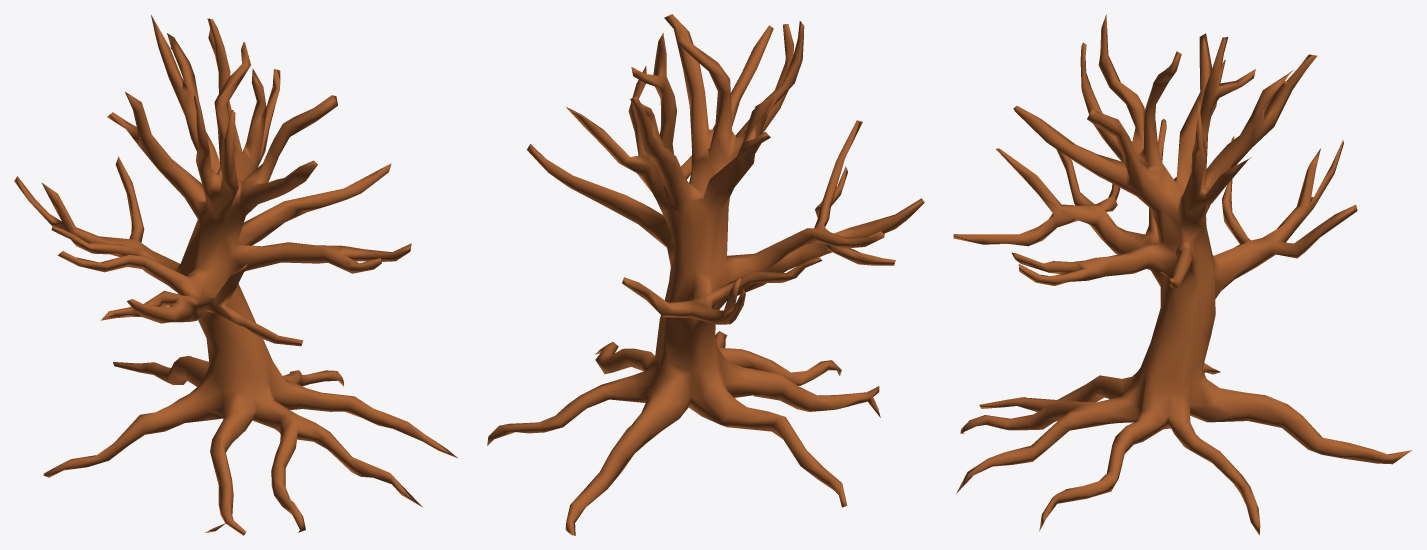
File: big_treeRe.glb
3 views of the same model, side by side, from view 1: azimuth 30°, elevation 25°; view 2: azimuth 150°, elevation 25°; view 3: azimuth 270°, elevation 25° (orthographic). The views are drawn at different scales.
Visible parts, largest first — view 1: tree; view 2: tree; view 3: tree.
Part boxes in pixels (left/top/right/bottom): tree: left=14, top=15, right=458, bottom=535; tree: left=487, top=14, right=924, bottom=535; tree: left=953, top=14, right=1411, bottom=535.
Size of the model in its own units: 14.86 by 17.51 by 17.17.
